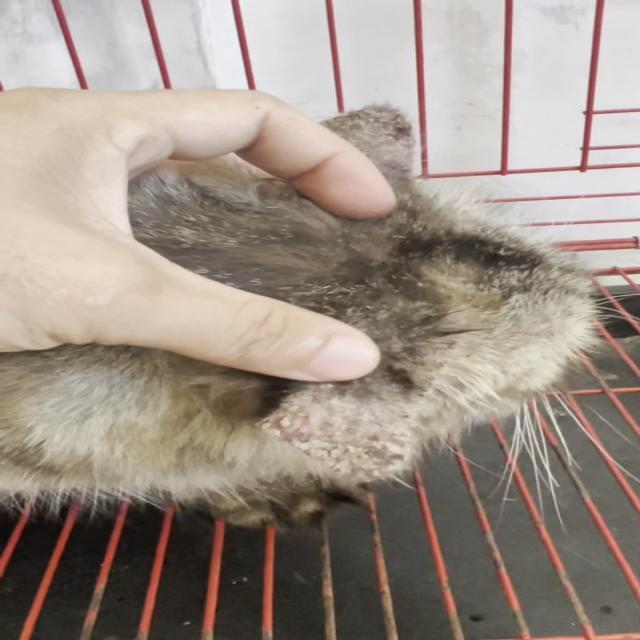ghe: (235, 397, 419, 492)
